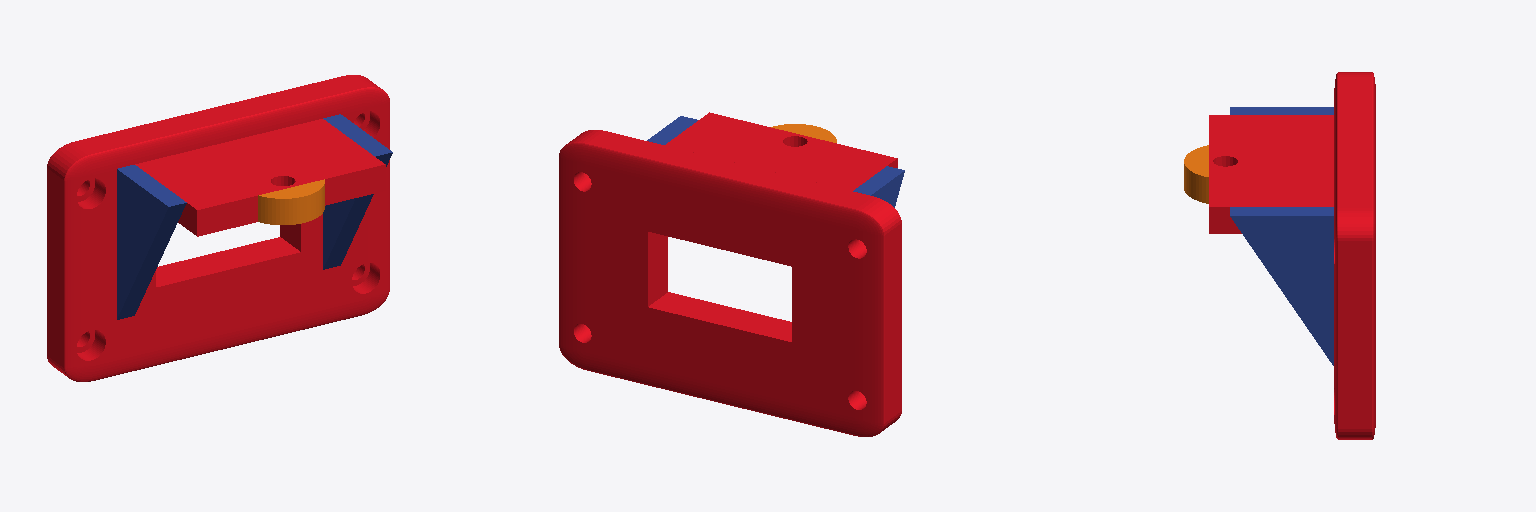
The model's file is tinker.obj.
3 renders of one model, left to right at view 1: azimuth 30°, elevation 25°; view 2: azimuth 150°, elevation 25°; view 3: azimuth 270°, elevation 25°, orthographic.
Visible parts, largest first — view 1: obj_0; view 2: obj_0; view 3: obj_0.
Boxes of the visible parts, x1,y1,x2,y2 form: obj_0: [47, 75, 392, 381]; obj_0: [559, 112, 904, 436]; obj_0: [1184, 72, 1375, 439].
Size of the model in its own units: 90 by 60 by 46.